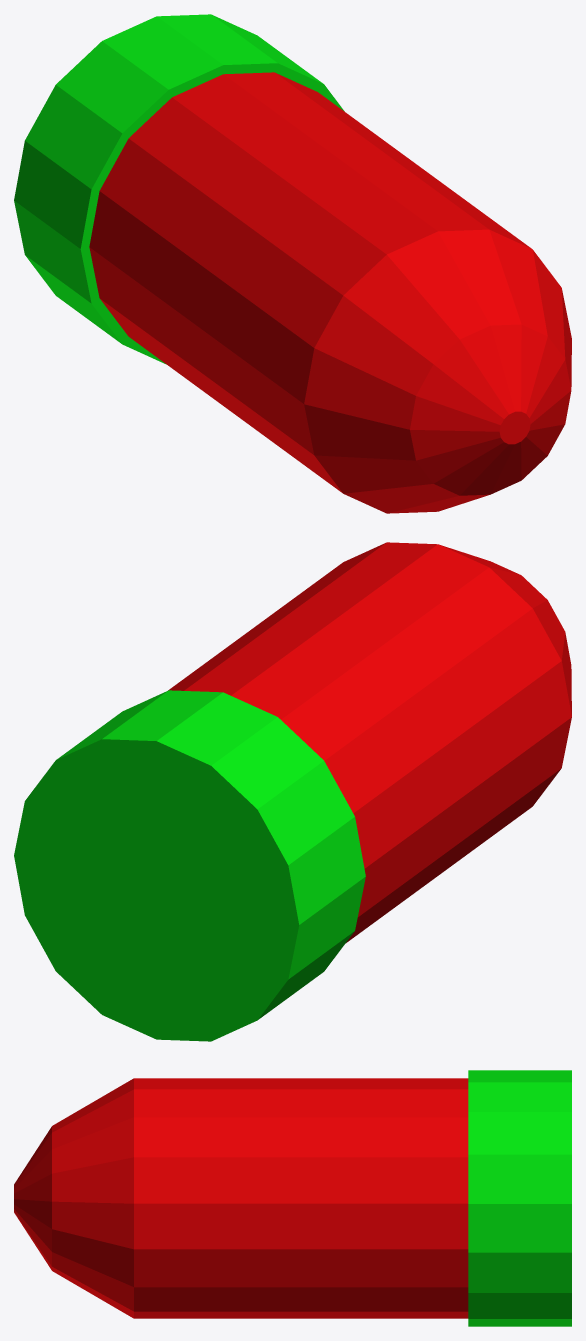
File: bullet.fbx
3 views of the same model, one above another, from view 1: azimuth 30°, elevation 25°; view 2: azimuth 150°, elevation 25°; view 3: azimuth 270°, elevation 25° (orthographic). The views are drawn at different scales.
Parts seen in each view (by area): view 1: Circle; view 2: Circle; view 3: Circle.
Part boxes in pixels (x1=…): Circle: x1=14, y1=14, x2=571, y2=513; Circle: x1=14, y1=542, x2=571, y2=1041; Circle: x1=14, y1=1070, x2=571, y2=1326.
Bounding box in the file's own units: 63.89 × 63.89 × 139.
